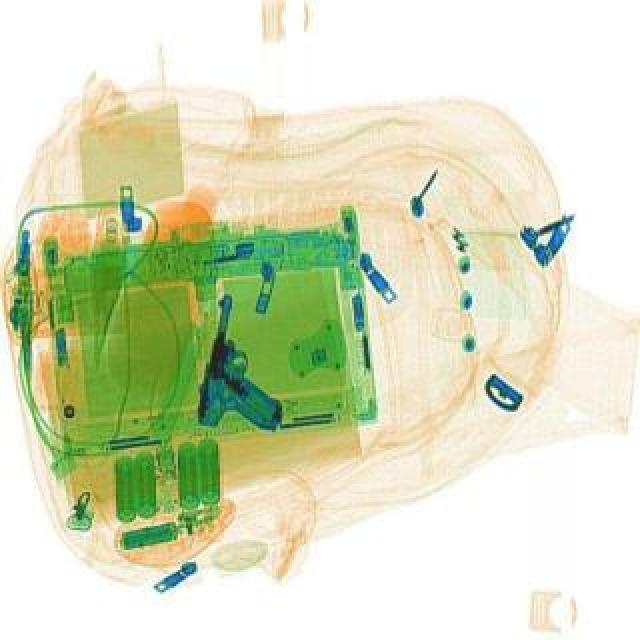gun: (188, 290, 308, 438)
